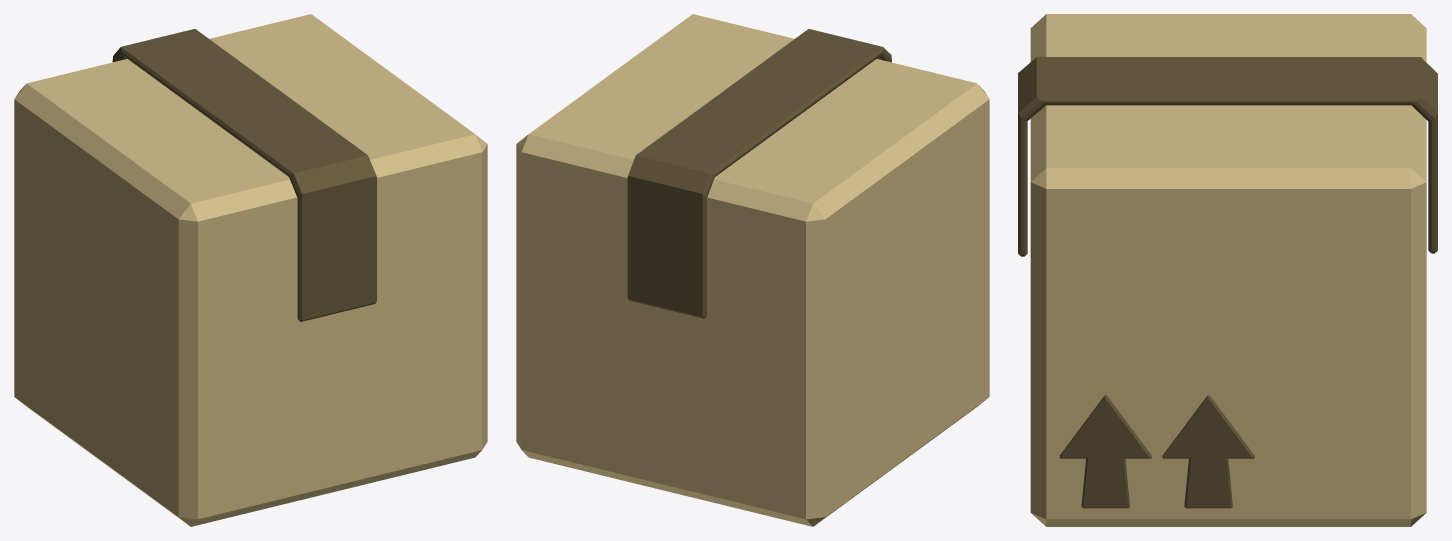
The model's file is SM_Cardboard.fbx.
3 renders of one model, left to right at view 1: azimuth 30°, elevation 25°; view 2: azimuth 150°, elevation 25°; view 3: azimuth 270°, elevation 25°, orthographic. The views are drawn at different scales.
Parts seen in each view (by area): view 1: Cube.022; view 2: Cube.022; view 3: Cube.022.
Part boxes in pixels (x1,y1,x2,y2): Cube.022: (14,14,487,526); Cube.022: (516,14,989,526); Cube.022: (1018,14,1437,526).
Bounding box in the file's own units: 54 × 51.61 × 52.41.
